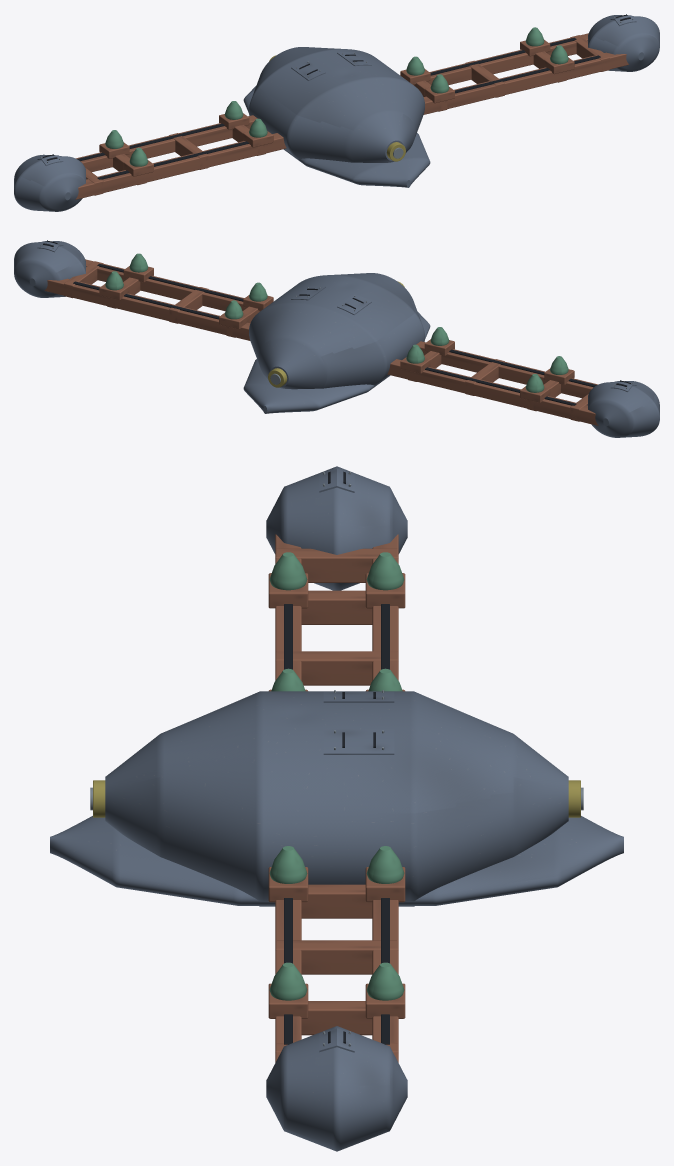
The picture shows the model from 3 angles, top to bottom: view 1: azimuth 30°, elevation 25°; view 2: azimuth 150°, elevation 25°; view 3: azimuth 270°, elevation 25°; orthographic projection. The views are drawn at different scales.
Visible parts, largest first — view 1: Ruth-Strivakh central pressure body, Ruth-Strivakh terminal pod -1, Ruth-Strivakh lower keel, Ruth-Strivakh copper rail -1 -1, Ruth-Strivakh terminal pod 1, Ruth-Strivakh copper rail 1 -1, Ruth-Strivakh copper rail -1 1, Ruth-Strivakh copper rail 1 1, Ruth-Strivakh crossmember -1 1, Ruth-Strivakh rail inset -1 -1, Ruth-Strivakh crossmember 1 3, Ruth-Strivakh rail inset -1 1 (+8 smaller); view 2: Ruth-Strivakh central pressure body, Ruth-Strivakh terminal pod -1, Ruth-Strivakh lower keel, Ruth-Strivakh copper rail -1 1, Ruth-Strivakh terminal pod 1, Ruth-Strivakh copper rail 1 1, Ruth-Strivakh copper rail -1 -1, Ruth-Strivakh copper rail 1 -1, Ruth-Strivakh crossmember 1 1, Ruth-Strivakh crossmember 1 3, Ruth-Strivakh crossmember -1 1, Ruth-Strivakh rail inset -1 1 (+8 smaller); view 3: Ruth-Strivakh central pressure body, Ruth-Strivakh lower keel, Ruth-Strivakh terminal pod 1, Ruth-Strivakh terminal pod -1, Ruth-Strivakh crossmember 1 1, Ruth-Strivakh crossmember -1 1, Ruth-Strivakh crossmember -1 3, Ruth-Strivakh crossmember -1 2, Ruth-Strivakh crossmember 1 0, Ruth-Strivakh crossmember 1 2, Ruth-Strivakh service cover 1, Ruth-Strivakh copper rail 1 -1 (+9 smaller).
Part boxes in pixels (x1,y1,x2,y2): Ruth-Strivakh central pressure body: (249, 47, 424, 162); Ruth-Strivakh terminal pod -1: (14, 154, 86, 211); Ruth-Strivakh lower keel: (243, 86, 430, 187); Ruth-Strivakh copper rail -1 -1: (75, 133, 286, 199); Ruth-Strivakh terminal pod 1: (587, 15, 659, 71); Ruth-Strivakh copper rail 1 -1: (423, 52, 628, 114); Ruth-Strivakh copper rail -1 1: (76, 115, 257, 172); Ruth-Strivakh copper rail 1 1: (413, 33, 588, 85); Ruth-Strivakh crossmember -1 1: (169, 133, 208, 169); Ruth-Strivakh rail inset -1 -1: (97, 141, 248, 179); Ruth-Strivakh crossmember 1 3: (570, 35, 609, 71); Ruth-Strivakh rail inset -1 1: (77, 123, 224, 161); Ruth-Strivakh central pressure body: (249, 273, 424, 389); Ruth-Strivakh terminal pod -1: (587, 381, 659, 437); Ruth-Strivakh lower keel: (243, 312, 430, 413); Ruth-Strivakh copper rail -1 1: (387, 359, 598, 425); Ruth-Strivakh terminal pod 1: (14, 241, 86, 297); Ruth-Strivakh copper rail 1 1: (44, 278, 250, 340); Ruth-Strivakh copper rail -1 -1: (416, 341, 597, 398); Ruth-Strivakh copper rail 1 -1: (85, 259, 260, 311); Ruth-Strivakh crossmember 1 1: (169, 287, 208, 323); Ruth-Strivakh crossmember 1 3: (64, 261, 103, 298); Ruth-Strivakh crossmember -1 1: (465, 359, 504, 395); Ruth-Strivakh rail inset -1 1: (425, 367, 576, 405); Ruth-Strivakh central pressure body: (105, 691, 568, 906); Ruth-Strivakh lower keel: (50, 816, 623, 905); Ruth-Strivakh terminal pod 1: (266, 1026, 407, 1151); Ruth-Strivakh terminal pod -1: (266, 466, 407, 590); Ruth-Strivakh crossmember 1 1: (275, 940, 398, 974); Ruth-Strivakh crossmember -1 1: (275, 651, 398, 685); Ruth-Strivakh crossmember -1 3: (275, 548, 398, 582); Ruth-Strivakh crossmember -1 2: (301, 590, 372, 624); Ruth-Strivakh crossmember 1 0: (301, 884, 372, 918); Ruth-Strivakh crossmember 1 2: (301, 1001, 372, 1035); Ruth-Strivakh service cover 1: (323, 729, 394, 754); Ruth-Strivakh copper rail 1 -1: (275, 900, 301, 1062).
Bounding box in the file's own units: 6.76 × 0.8462 × 2.6.
Materials: 6 (3 with a texture image).
